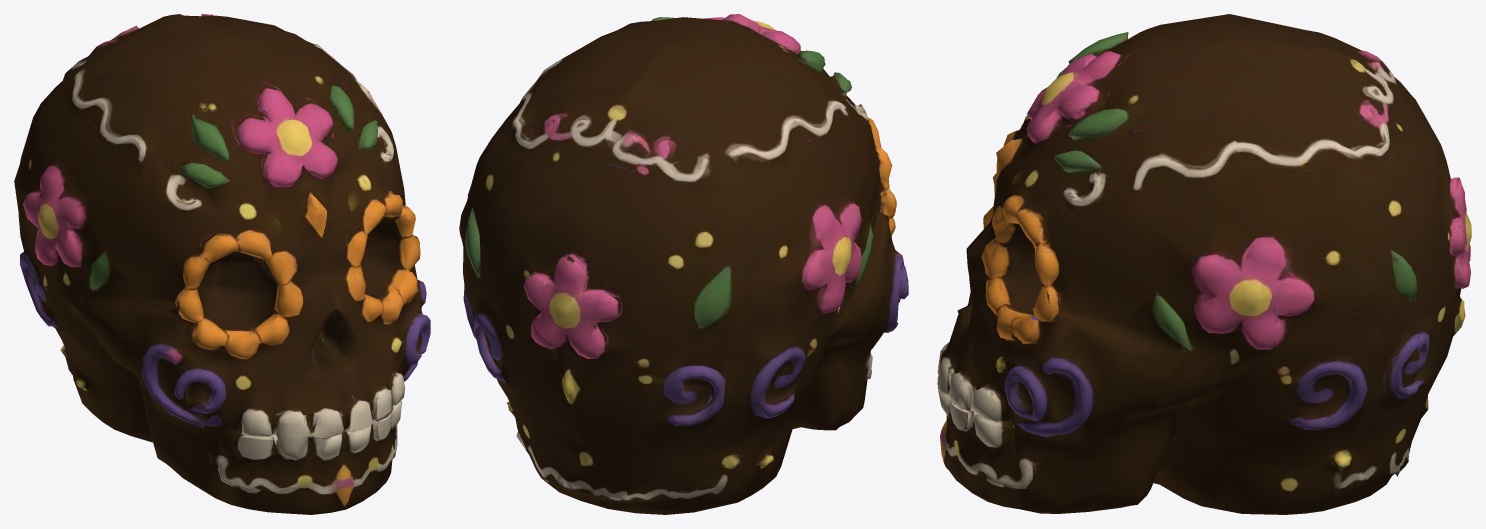
File: calavera-chocolate.glb
3 views of the same model, side by side, from view 1: azimuth 30°, elevation 25°; view 2: azimuth 150°, elevation 25°; view 3: azimuth 270°, elevation 25° (orthographic). The views are drawn at different scales.
Visible parts, largest first — view 1: Mesh_0; view 2: Mesh_0; view 3: Mesh_0.
Boxes of the visible parts, <box> form: Mesh_0: <box>14,14,430,514</box>; Mesh_0: <box>459,14,908,514</box>; Mesh_0: <box>937,14,1471,514</box>.
Size of the model in its own units: 1.53 by 1.69 by 1.89.
1 material, 1 textured.
